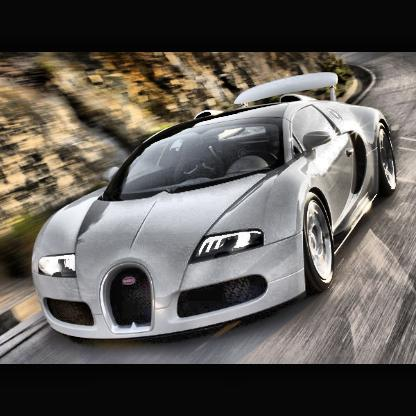Bugatti Veyron 16-4 Coupe 2009: (33, 75, 397, 342)
